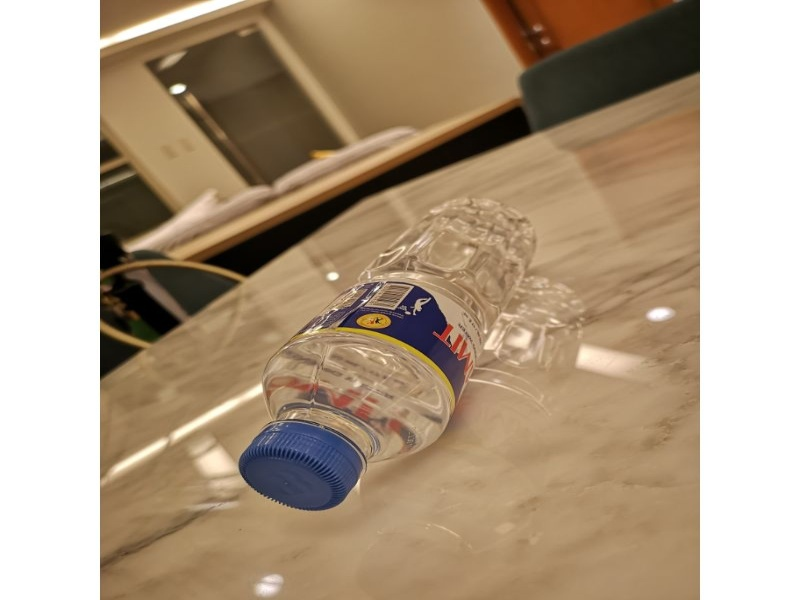PET #1: (236, 189, 545, 518)
